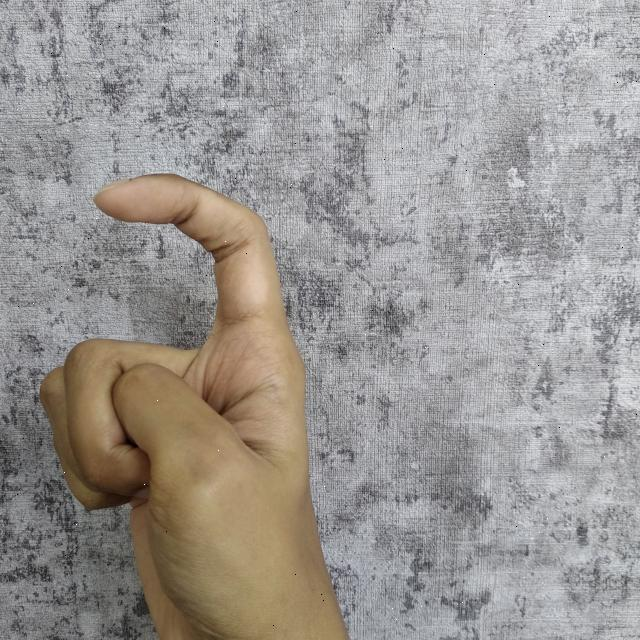X: (35, 166, 365, 640)
